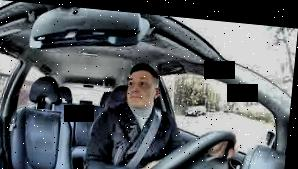seatbelt: (127, 94, 167, 168), (6, 83, 26, 146)
